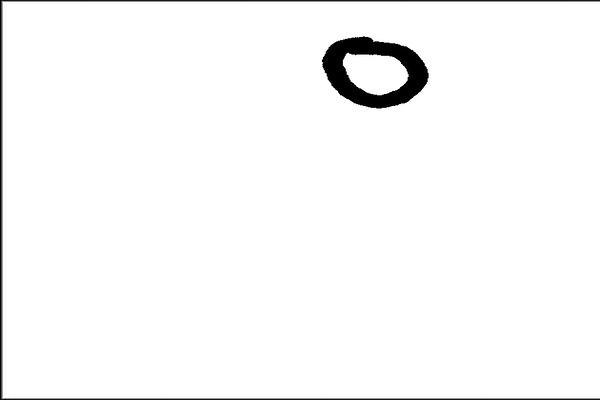O: (311, 23, 431, 113)
